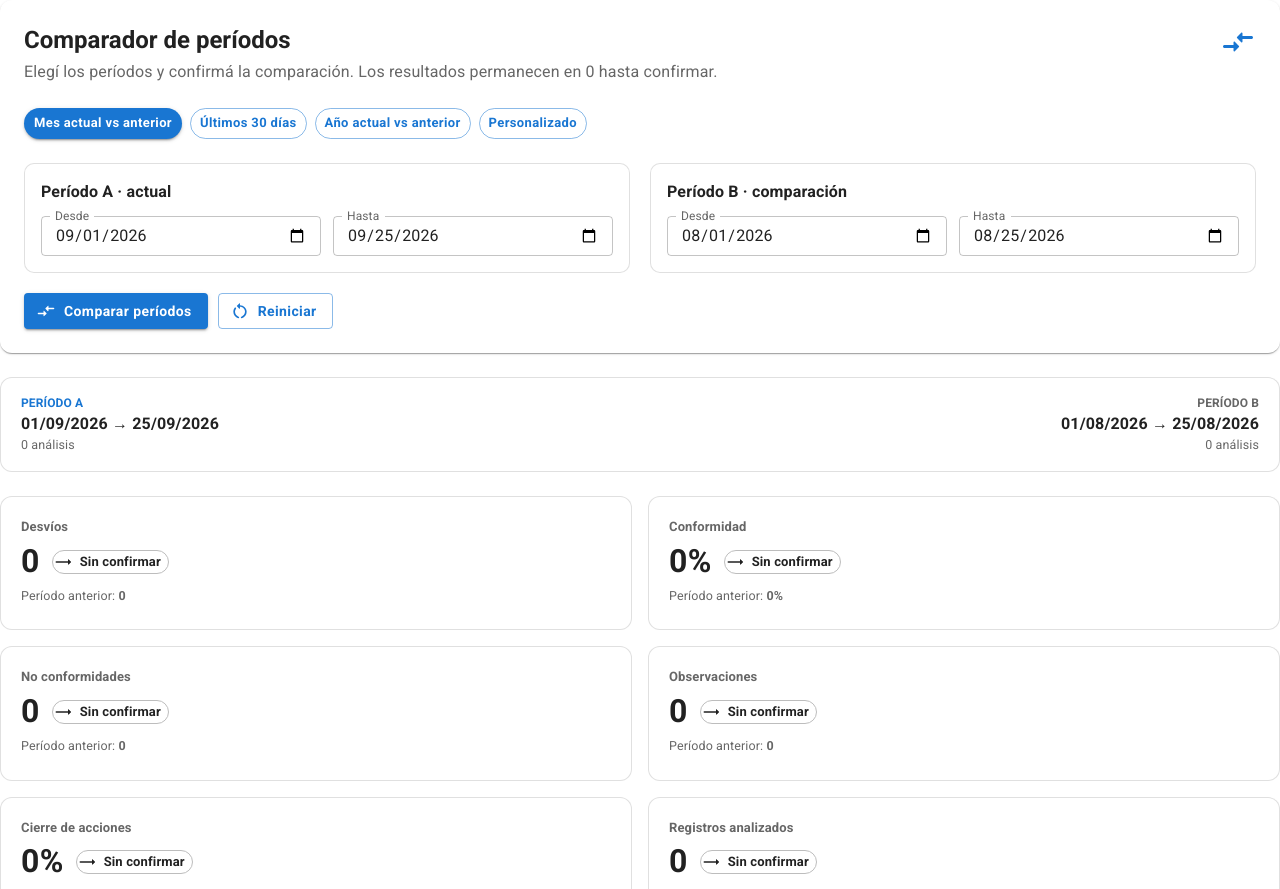
changing a date invalidates the previous result and returns to zero
The image size is (1280, 889).
Click the button "Comparar períodos".
click(116, 311)  # box [24, 293, 208, 329]
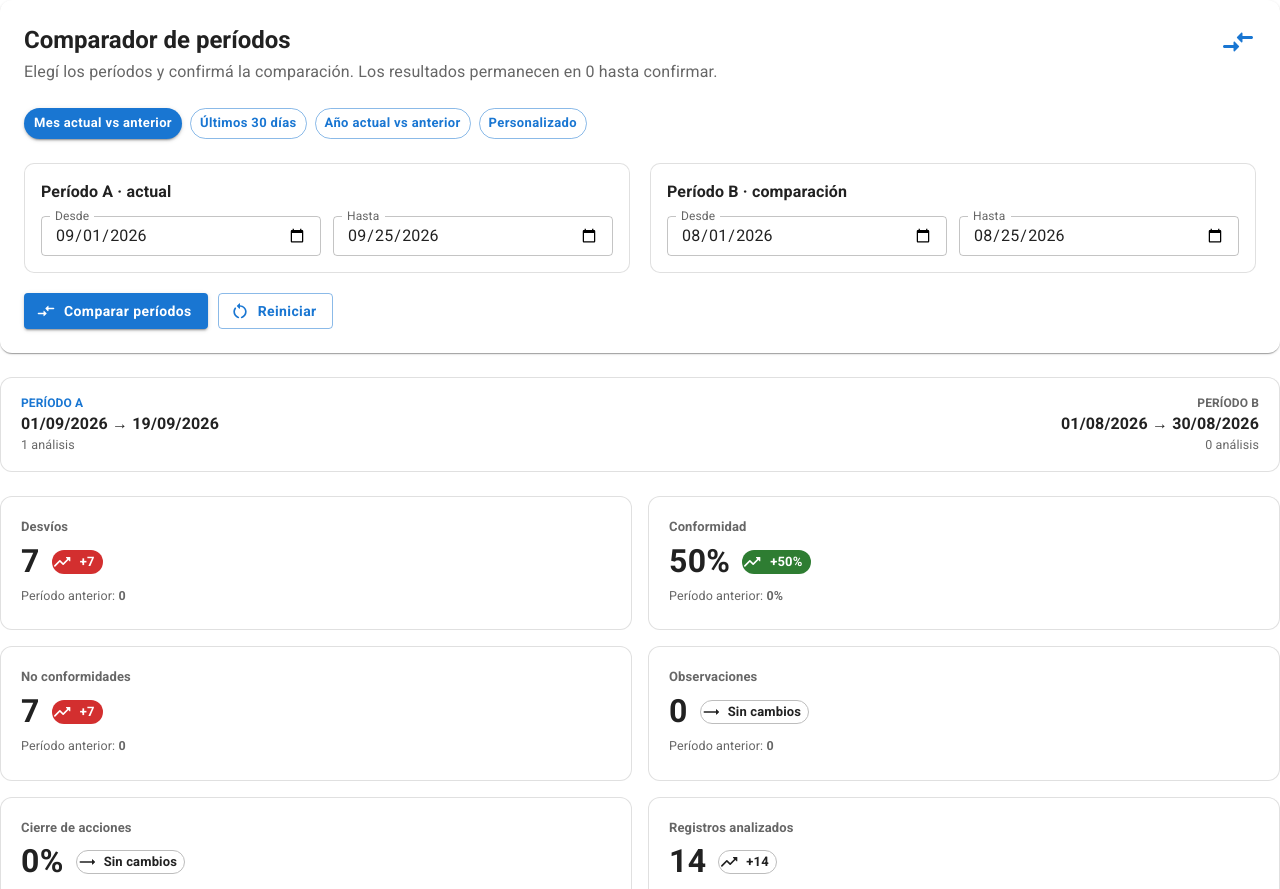
Check: the text "14" is shown, box [669, 845, 706, 877]
Type "2026-09-02" into the date field labelled "Desde" below "Período A · actual".
click(181, 236); type("2026-09-02")  # box [41, 216, 321, 256]
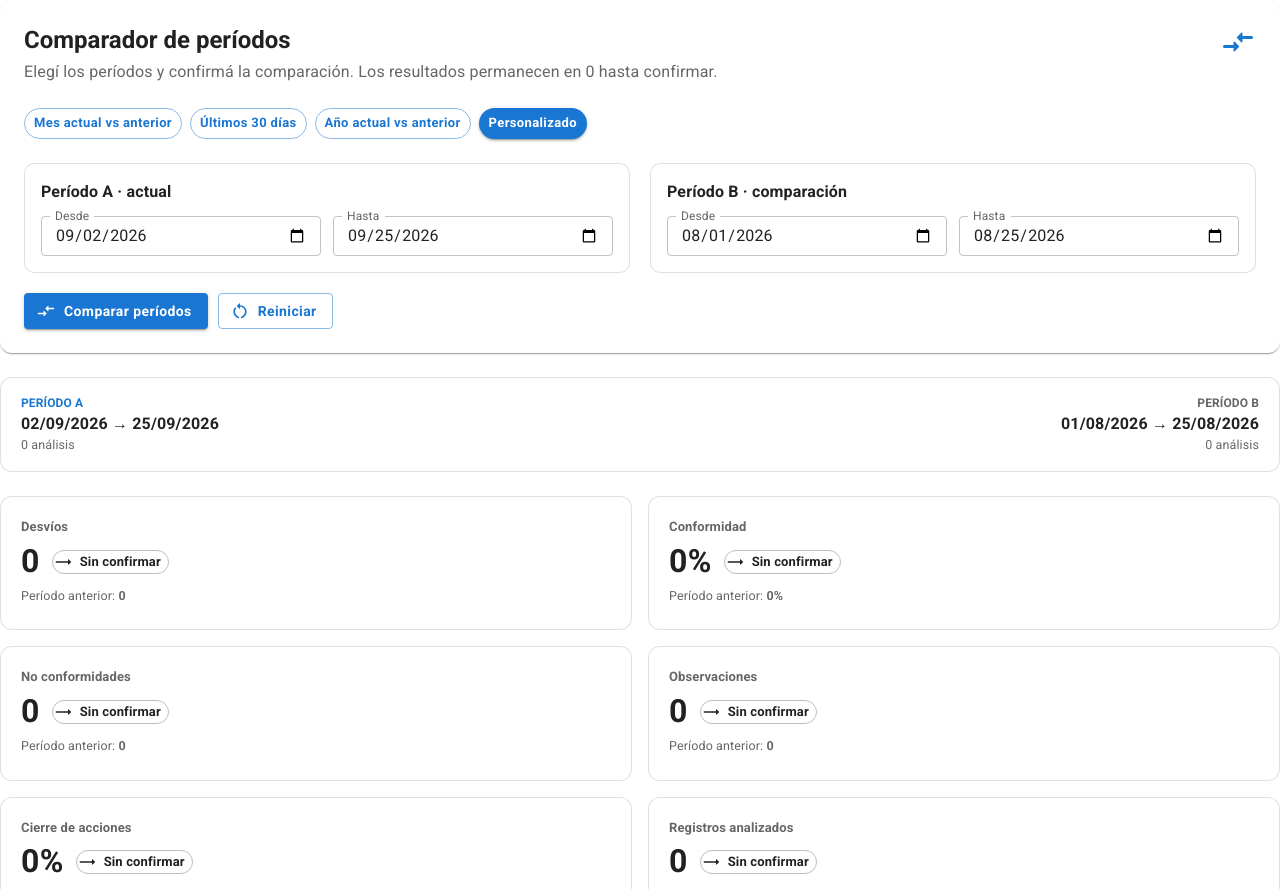
Check: the text "Sin confirmar" is shown 6 times, box [73, 552, 168, 571]; [745, 552, 840, 571]; [73, 702, 168, 722]; [721, 702, 816, 722]; [97, 852, 192, 872]; [721, 852, 816, 872]
Check: the text "14" is gone
